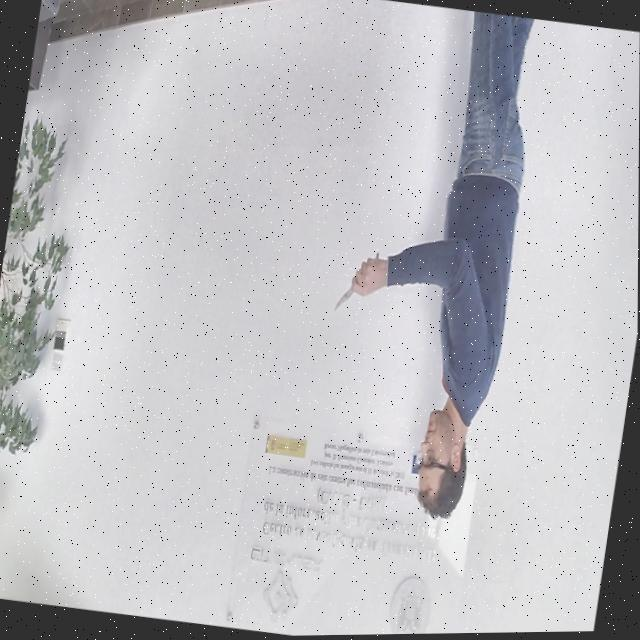knife: (334, 284, 356, 316)
